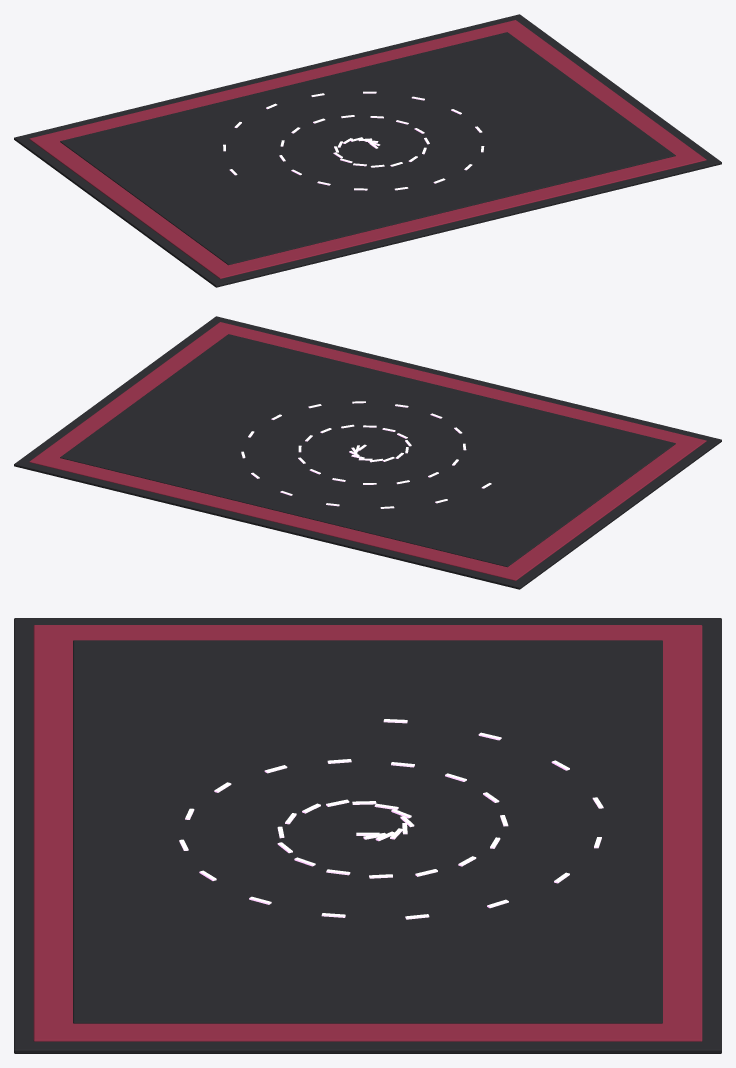
The model's file is rug_spiral_sigil.glb.
3 views of the same model, one above another, from view 1: azimuth 30°, elevation 25°; view 2: azimuth 150°, elevation 25°; view 3: azimuth 270°, elevation 25° (orthographic). The views are drawn at different scales.
Parts seen in each view (by area): view 1: GD_rug_spiral_sigil__m0, GD_rug_spiral_sigil__m1, GD_rug_spiral_sigil__m2; view 2: GD_rug_spiral_sigil__m0, GD_rug_spiral_sigil__m1, GD_rug_spiral_sigil__m2; view 3: GD_rug_spiral_sigil__m0, GD_rug_spiral_sigil__m1, GD_rug_spiral_sigil__m2.
Part boxes in pixels (x1,y1,x2,y2): GD_rug_spiral_sigil__m0: (14, 14, 721, 287); GD_rug_spiral_sigil__m1: (29, 20, 706, 278); GD_rug_spiral_sigil__m2: (223, 91, 484, 190); GD_rug_spiral_sigil__m0: (14, 316, 721, 589); GD_rug_spiral_sigil__m1: (29, 322, 706, 580); GD_rug_spiral_sigil__m2: (241, 401, 491, 508); GD_rug_spiral_sigil__m0: (14, 618, 721, 1053); GD_rug_spiral_sigil__m1: (33, 625, 702, 1041); GD_rug_spiral_sigil__m2: (179, 719, 603, 919).
Size of the model in its own units: 2.6 by 0.027 by 1.8.
